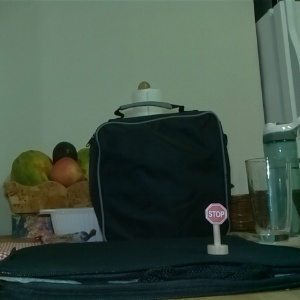stop sign: (203, 201, 231, 256)
